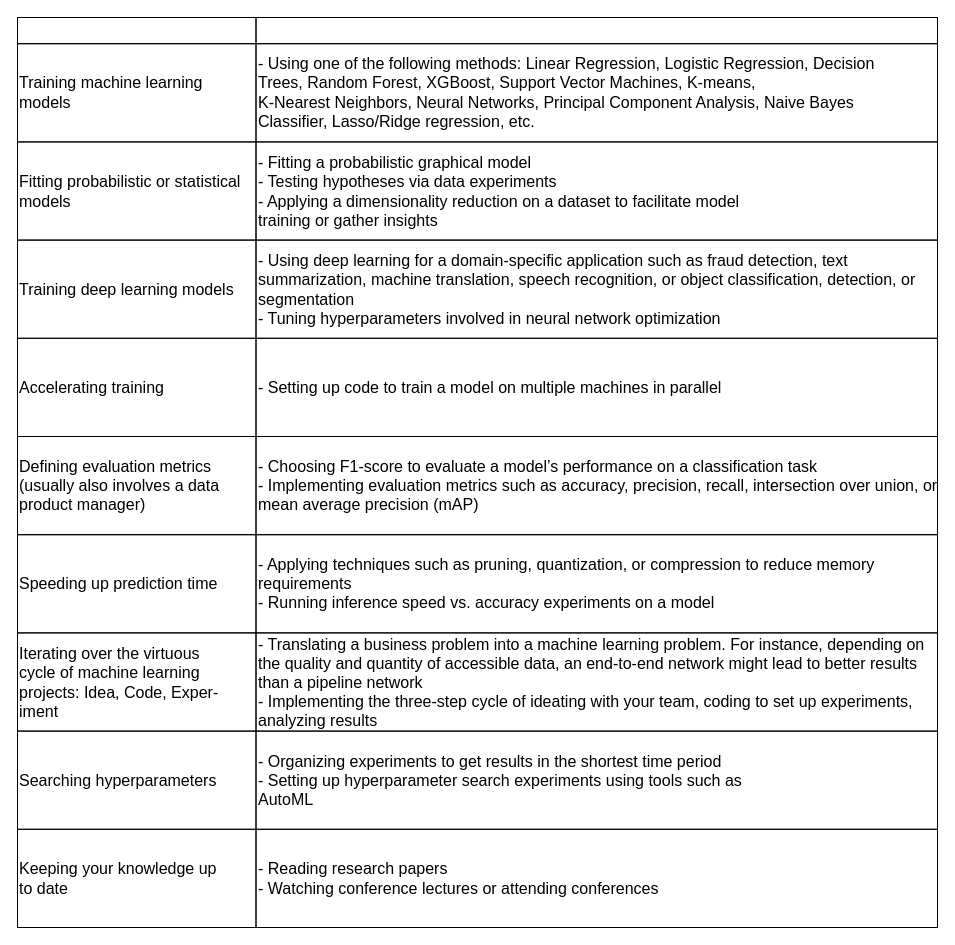
This 955x945 diagram has some shape labels left out. Each missing label, with the centre of its shape:
Examples: the point at 596,30
Subtask: the point at 136,30
